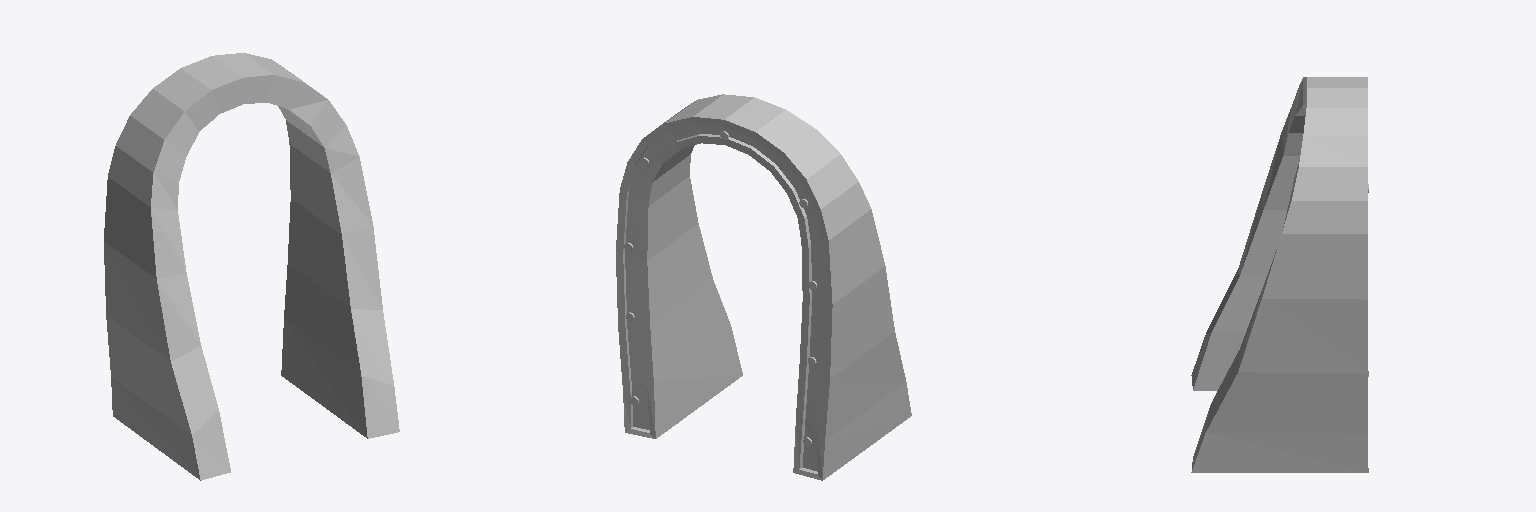
Rendered from marcoPuertaCuarto2.obj.
The picture shows the model from 3 angles: view 1: azimuth 30°, elevation 25°; view 2: azimuth 150°, elevation 25°; view 3: azimuth 270°, elevation 25°; orthographic projection.
Visible parts, largest first — view 1: pasted__pasted__pasted__pSphere22polySurface163 pasted__group10 ; view 2: pasted__pasted__pasted__pSphere22polySurface163 pasted__group10 ; view 3: pasted__pasted__pasted__pSphere22polySurface163 pasted__group10 .
Boxes of the visible parts, <box> form: pasted__pasted__pasted__pSphere22polySurface163 pasted__group10 : <box>104,53,399,480</box>; pasted__pasted__pasted__pSphere22polySurface163 pasted__group10 : <box>616,94,911,480</box>; pasted__pasted__pasted__pSphere22polySurface163 pasted__group10 : <box>1191,77,1368,472</box>.
Bounding box in the file's own units: 2.45 × 3.63 × 1.73.